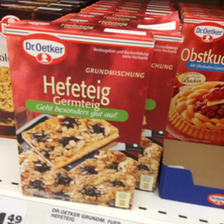cake: (4, 17, 156, 216)
